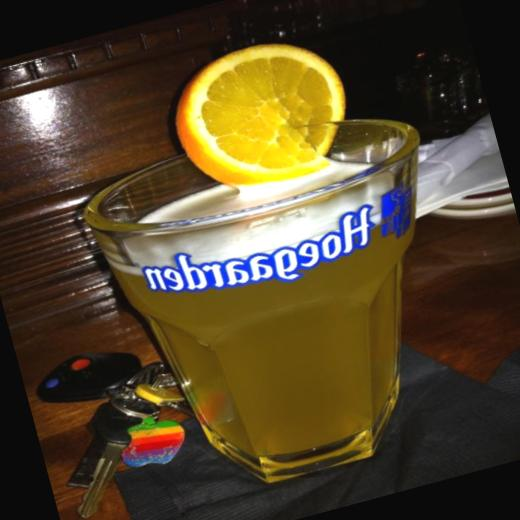Grape: (166, 30, 364, 206)
